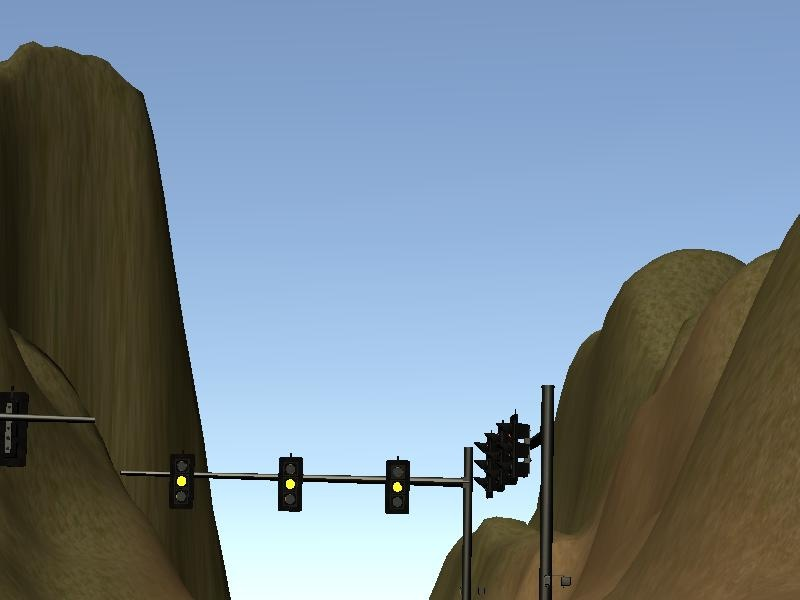yellow: (380, 450, 415, 518), (274, 451, 306, 516), (164, 448, 196, 511)
